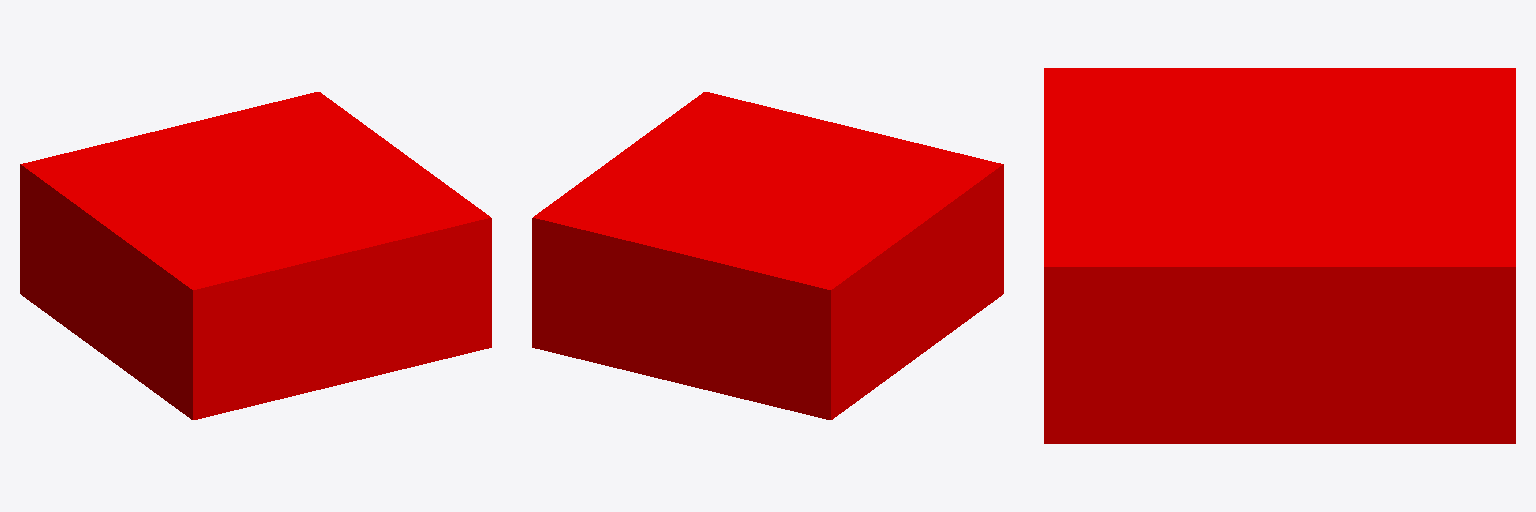
robot.urdf — object:
<?xml version="1.0"?>
<robot name="object">
  <!-- <link name="world"/> -->

  <link name="link">
    <inertial>
      <origin xyz="0 0 0" rpy="0 0 0"/>
      <mass value="1.0"/>
      <inertia ixx="0.00144" ixy="0.0" ixz="0.0" iyy="0.00144" iyz="0.0" izz="0.00144"/>
    </inertial>
    <collision>
      <geometry>
        <box size="0.12 0.12 0.05"/>
      </geometry>
      <surface>
        <friction>
          <ode>
            <mu>0.5</mu>
            <mu2>0.5</mu2>
          </ode>
          <torsional>
            <coefficient>0.0</coefficient>
            <patch_radius>0.1</patch_radius>
          </torsional>
        </friction>
      </surface>
    </collision>
    <visual>
      <geometry>
        <box size="0.12 0.12 0.05"/>
      </geometry>
      <material name="red">
        <color rgba="1.0 0.0 0.0 1.0"/>
      </material>
      <!-- <material> -->
      <!--   <ambient>1 0 0 1</ambient> -->
      <!--   <diffuse>1 0 0 1</diffuse> -->
      <!--   <specular>0.1 0.1 0.1 1</specular> -->
      <!--   <emissive>0 0 0 0</emissive> -->
      <!-- </material> -->
    </visual>
  </link>

  <gazebo>
    <plugin name="gazebo_ros_control" filename="libgazebo_ros_control.so">
      <robotNamespace>/object</robotNamespace>
      <robotSimType>gazebo_ros_control/DefaultRobotHWSim</robotSimType>
      <legacyModeNS>true</legacyModeNS>
    </plugin>
    <!-- <plugin name="franka_push_gazebo" filename="libobject_params_updater.so"/> -->
  </gazebo>
  <gazebo reference="link">
    <material>Gazebo/Red</material>
  </gazebo>
</robot>

--- What the picture shows (computed from the rendered views, not written in the file) ---
Views: 3 orthographic renders of the robot side by side, from view 1: azimuth 30°, elevation 25°; view 2: azimuth 150°, elevation 25°; view 3: azimuth 270°, elevation 25°.
Model object with 1 links and 0 joints (none), rooted at link, posed all joints at 0.
Links seen in each view (by area): view 1: link; view 2: link; view 3: link.
Boxes of the visible links, box(x1,y1,x2,y2) form: link: box(20, 92, 491, 419); link: box(532, 92, 1003, 419); link: box(1044, 68, 1515, 443).
Size in the robot's own frame: 0.12 by 0.12 by 0.05 metres.
Geometry: primitives only (box / cylinder / sphere), no mesh files.